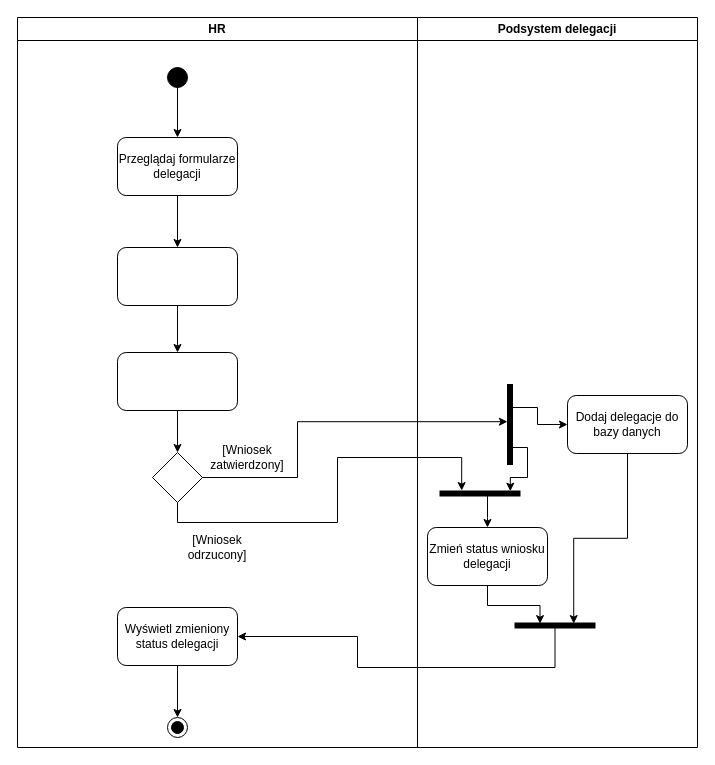
Image size: 715x765. Some labels were removed from this diagram. Here are the shapes that lost their labels. From the top down, the centre of each, then its label:
point 177,276: Wyświetl wybrany formularz delegacji
point 177,381: Zadecyduj o wniosku
